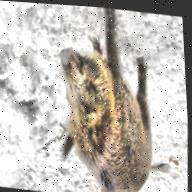boar: (39, 3, 183, 192)
